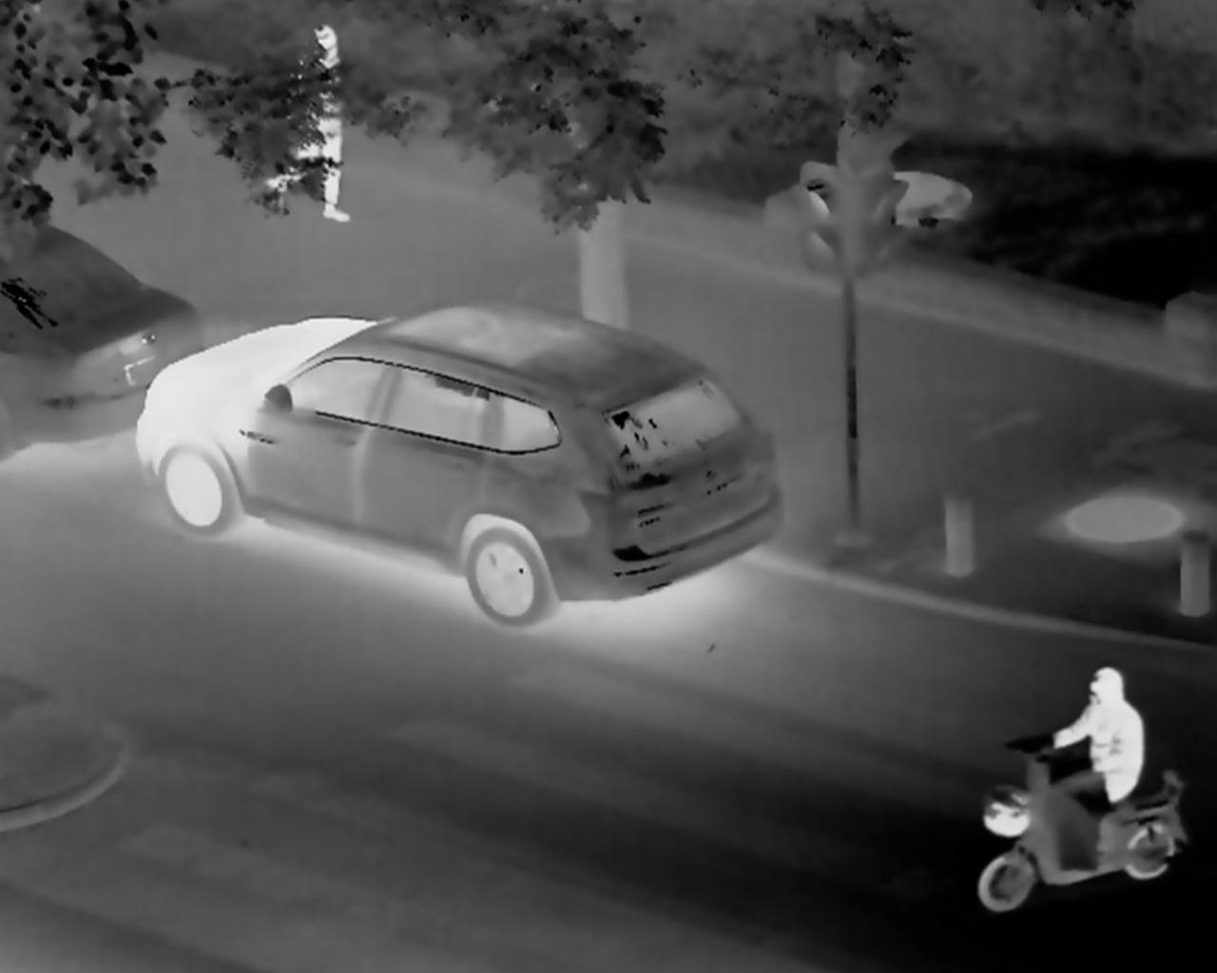person: (1060, 662, 1171, 897), (299, 10, 376, 243)
